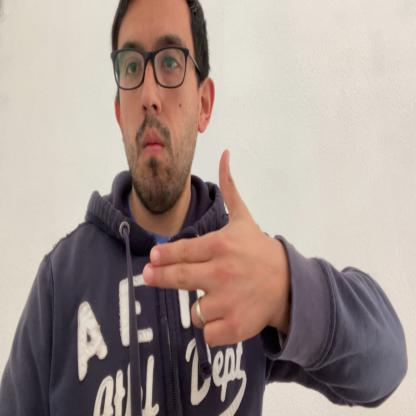H: (143, 148, 282, 348)
